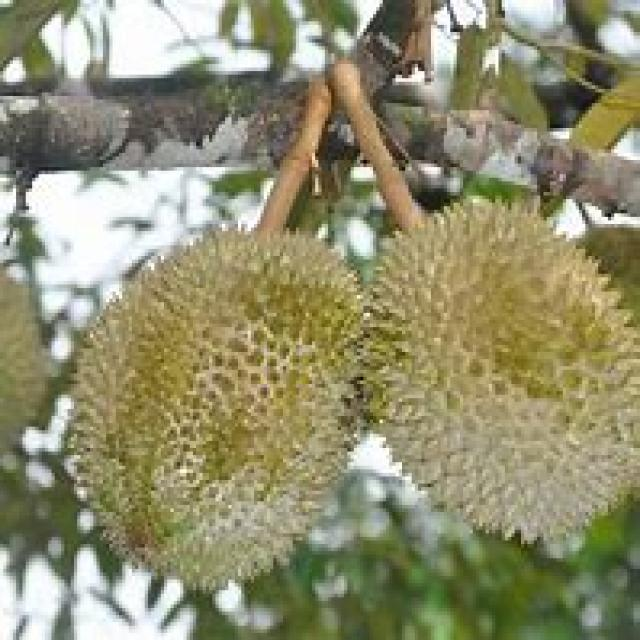mature: (72, 234, 358, 588), (364, 205, 640, 540)
